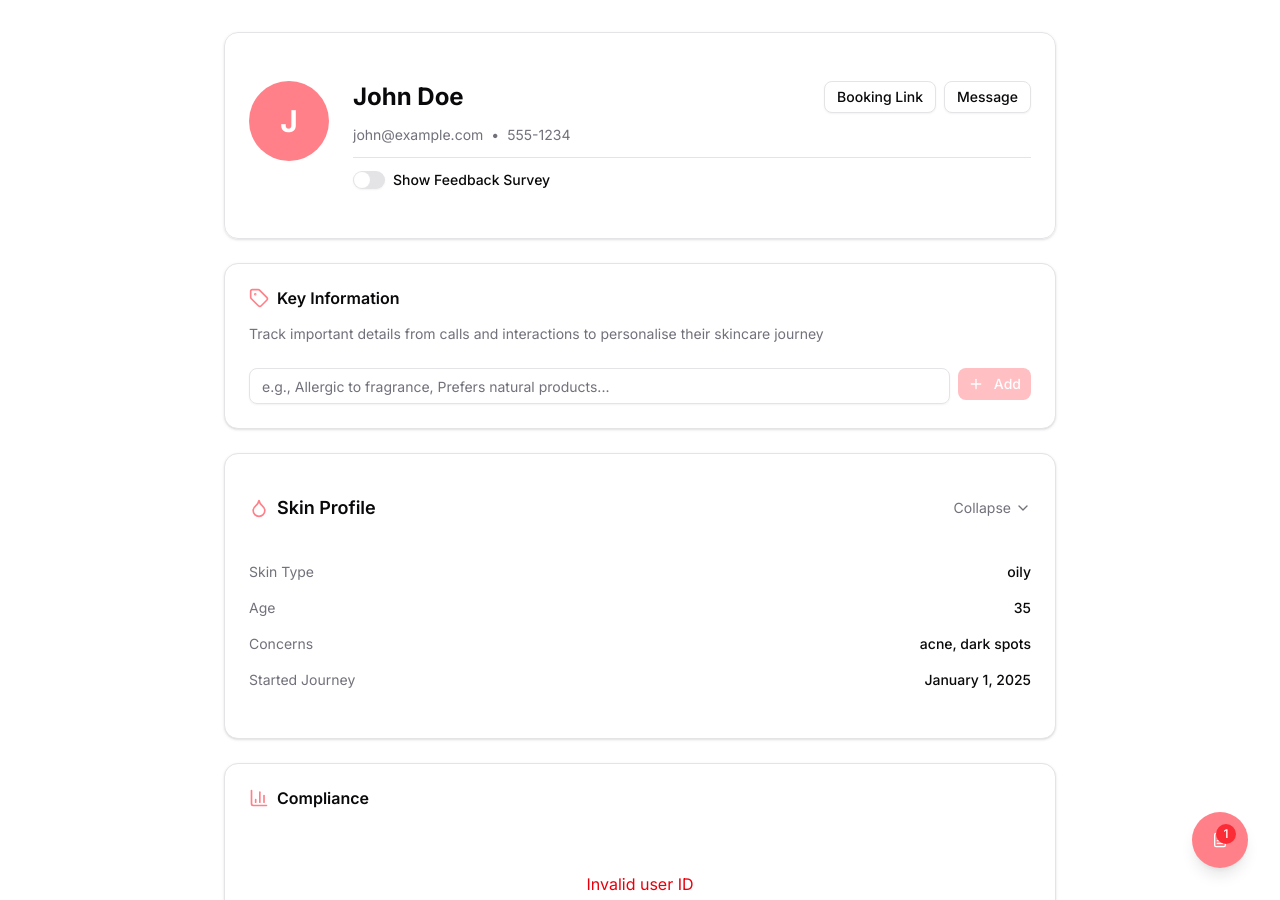
ClientPageWrapper - Integration Tests › Optimistic Updates - Failure & Revert › Coach Note Update Failure - changes show, server fails, reverts, toast shown
The image size is (1280, 900).
# Open coach notes panel
Click the button named "Open coach notes".
click(1220, 840)  # box [1192,812,1248,868]
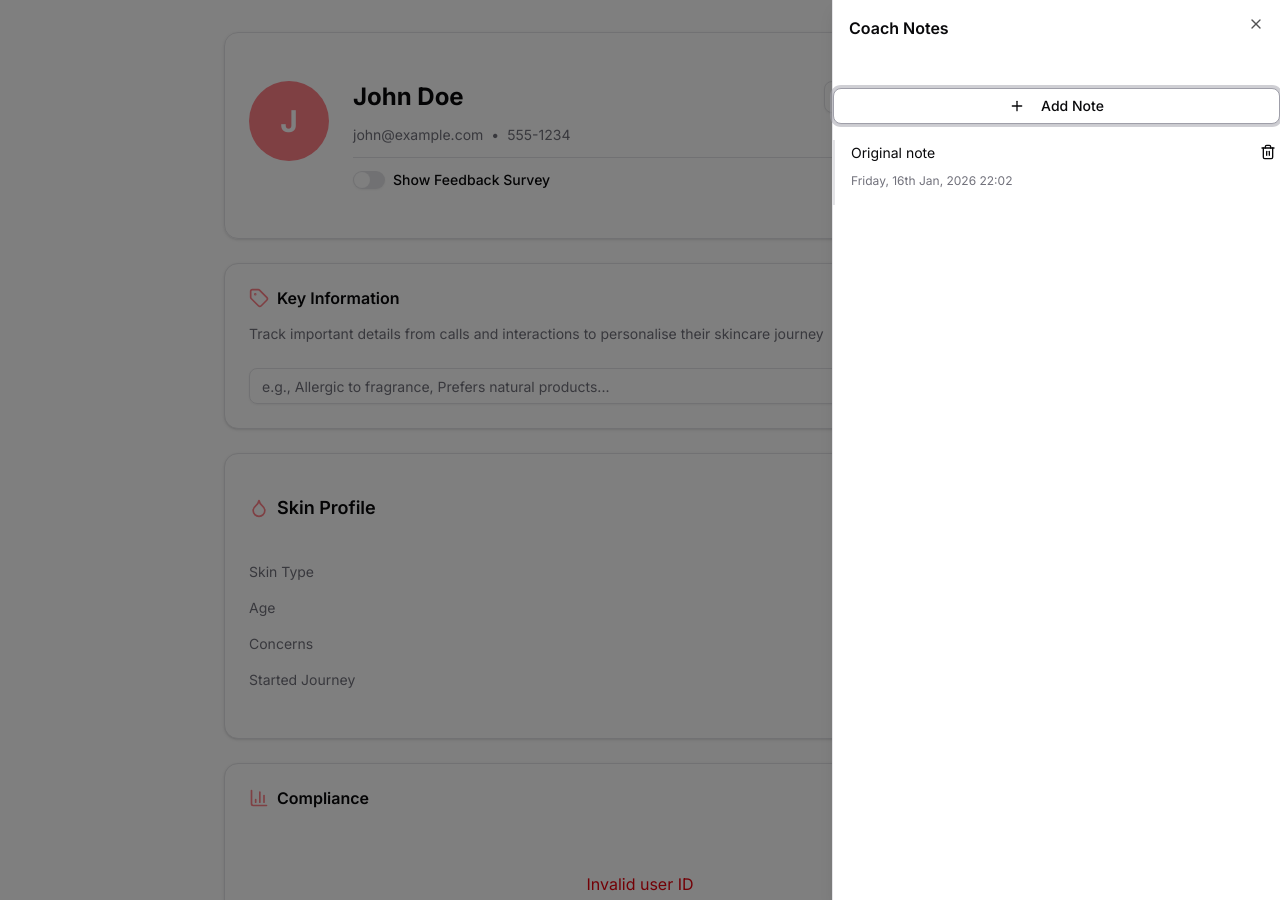
Now the text "Original note" is shown, box [851,144,935,161]
# Click on note to edit
Click the button "Original note".
click(893, 152)  # box [851,142,1244,165]
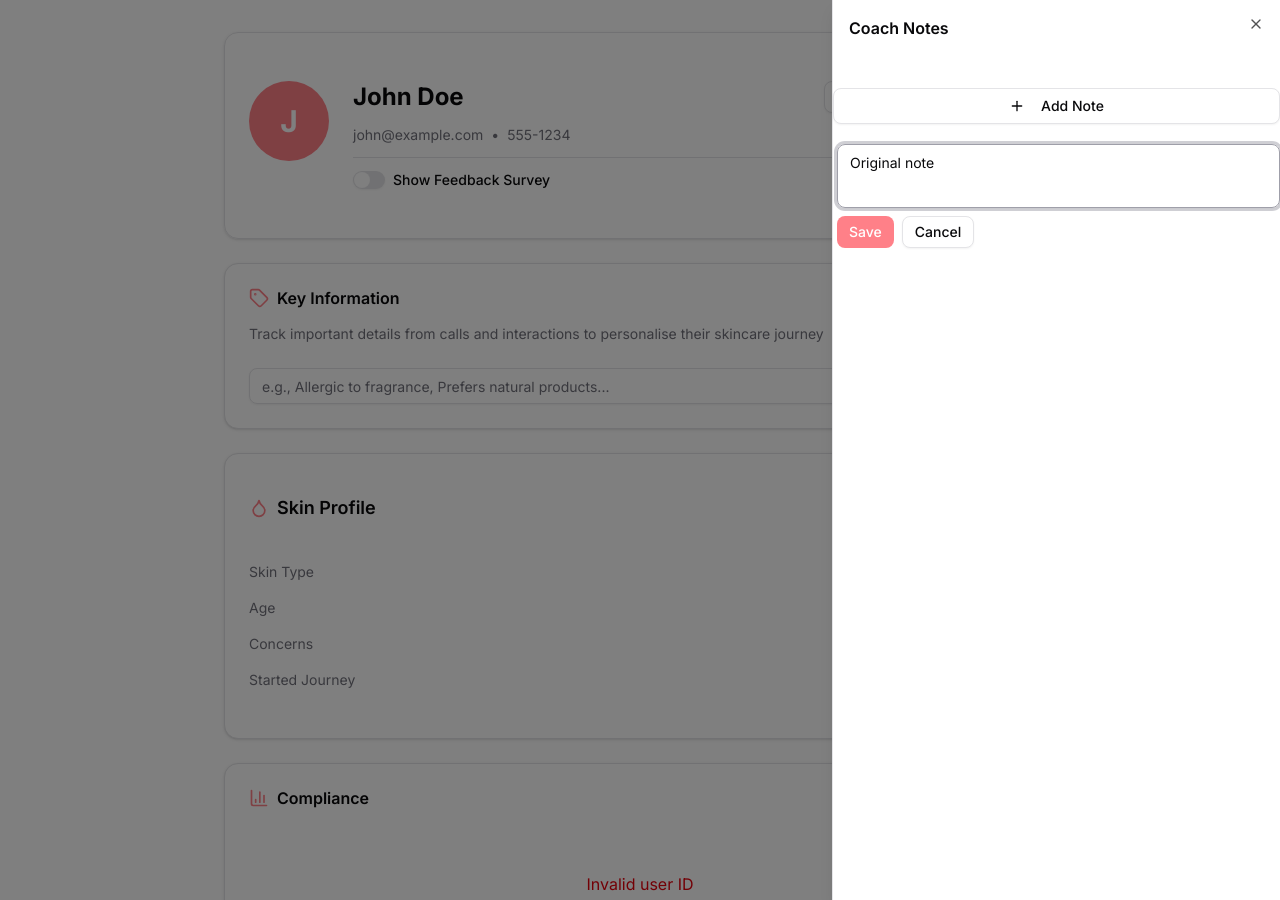
# Edit content
Replace the text in the text box showing "Original note" with "Updated note content" at (1058, 176), box [837,144,1279,208]
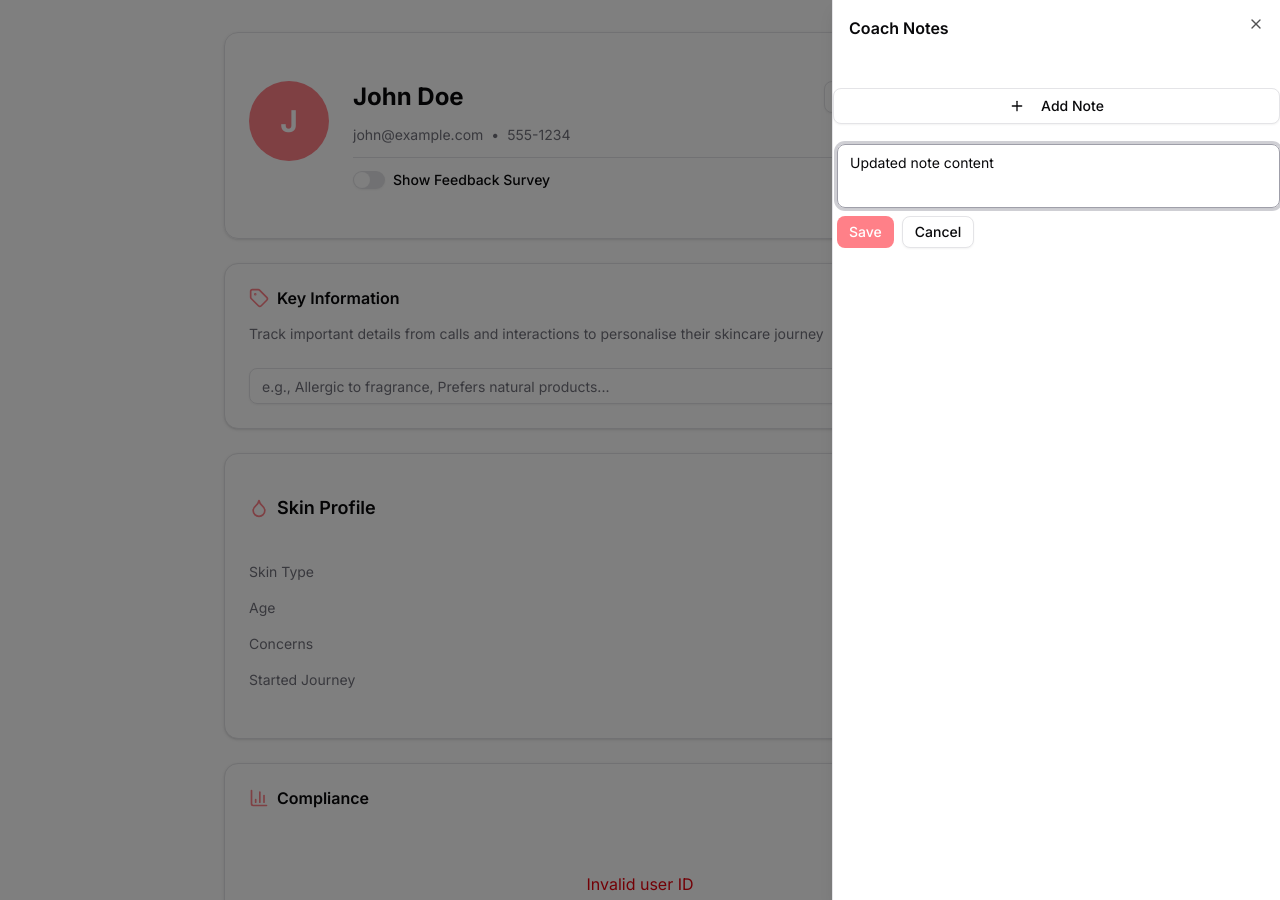
Click the button "Save".
click(865, 232)  # box [837,216,894,248]
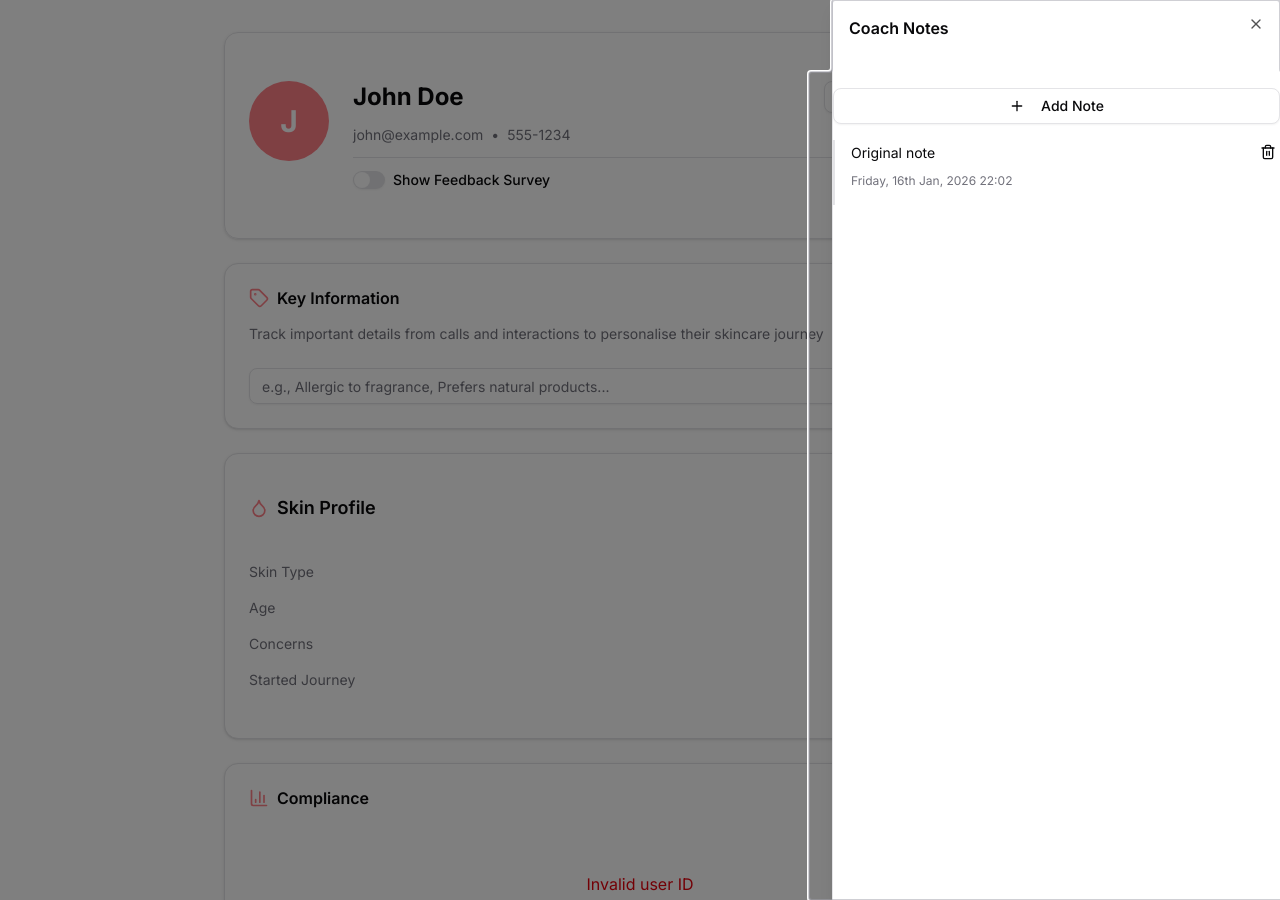
Now the text "Original note" is shown, box [851,144,935,161]
